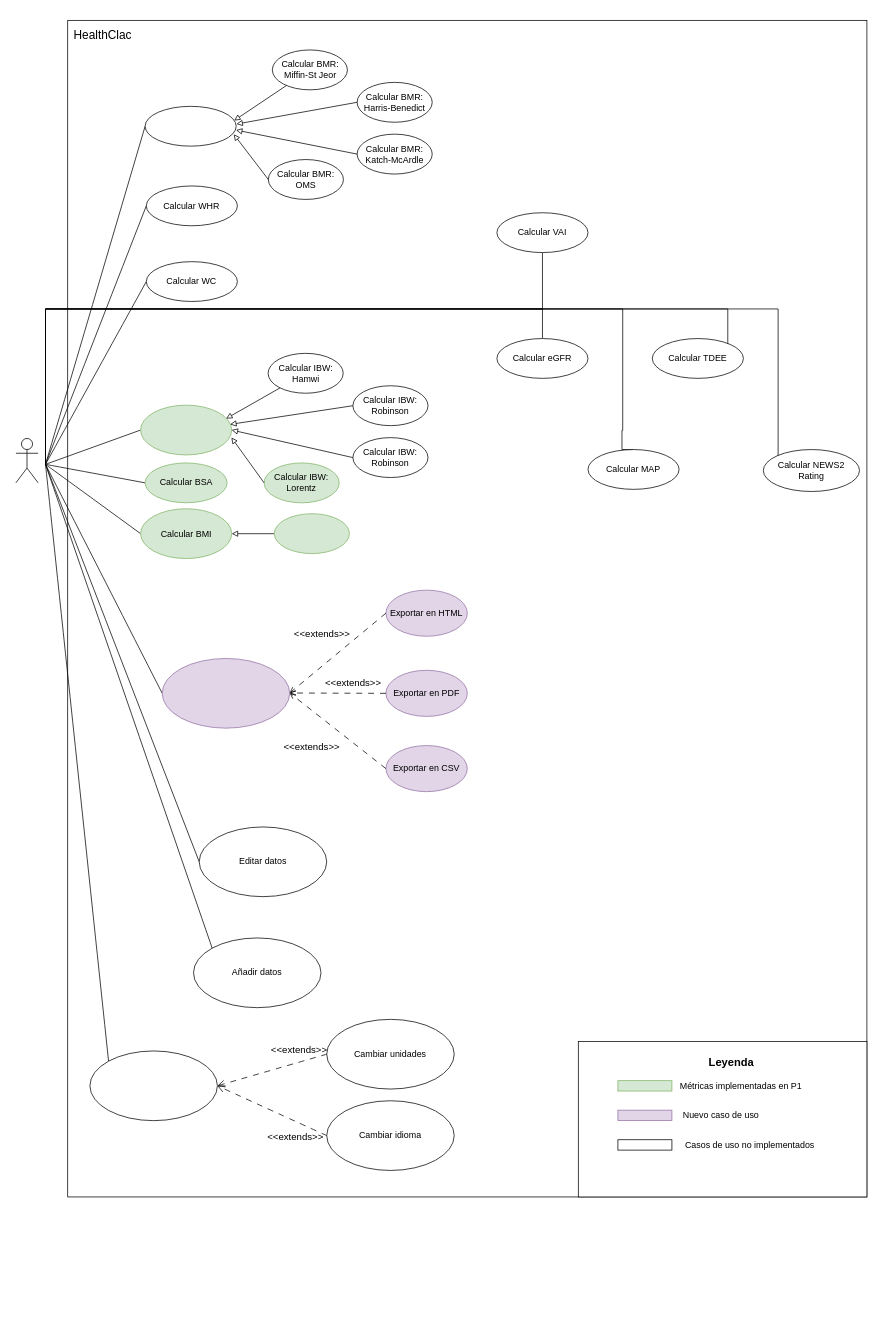
The diagram is 880 pixels wide and 1328 high, and some of its shapes have lost their labels. Here are the shapes that lost their labels. From the top down, the box of each, then its label:
(144, 106, 236, 146): Calcular BMR
(140, 404, 232, 455): Calcular IBW
(15, 438, 38, 483): usuario
(274, 513, 349, 554): Calcular Clasificación BMI
(161, 658, 290, 728): Exportar resultados
(89, 1050, 217, 1121): Cambiar opciones
